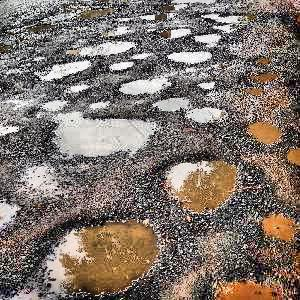pothole: (32, 214, 163, 297), (44, 112, 161, 161), (161, 154, 240, 213), (191, 263, 290, 299), (252, 203, 299, 244), (65, 37, 139, 57), (242, 116, 284, 146), (36, 58, 94, 79), (198, 10, 252, 31), (116, 74, 173, 93), (183, 105, 229, 125), (0, 197, 25, 229), (165, 47, 211, 63), (150, 95, 191, 111), (76, 7, 116, 21), (156, 26, 196, 38), (193, 32, 223, 43), (108, 60, 133, 71), (284, 145, 299, 163), (197, 79, 216, 90)
